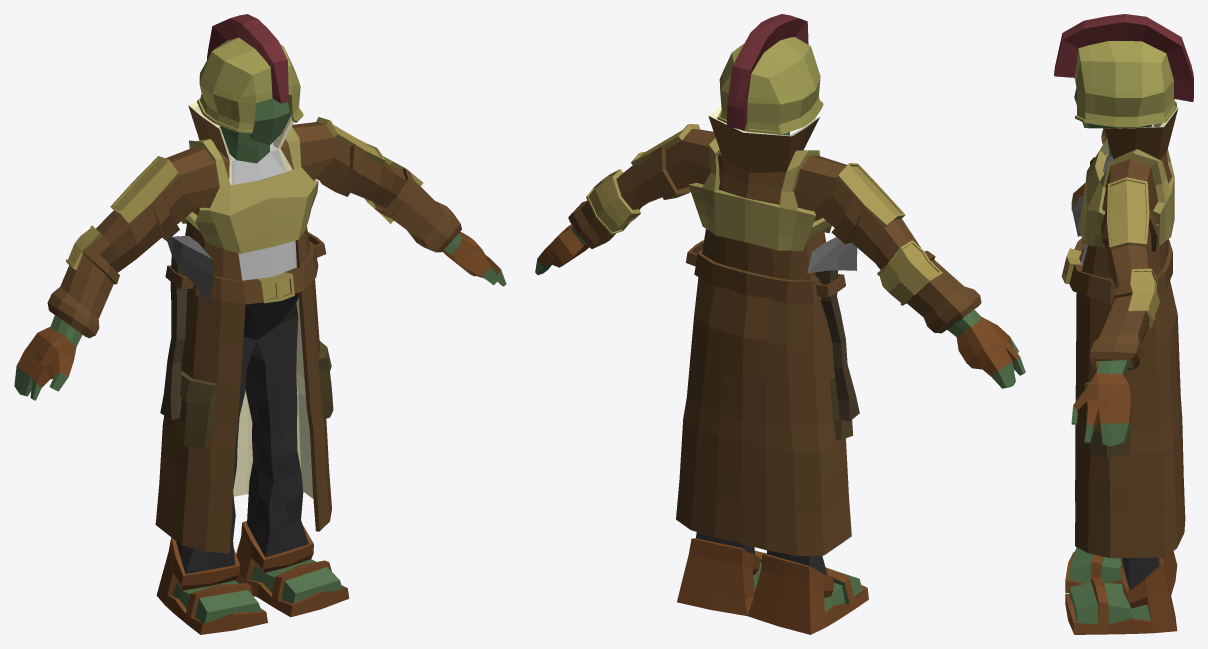
File: Builer.fbx
3 views of the same model, side by side, from view 1: azimuth 30°, elevation 25°; view 2: azimuth 150°, elevation 25°; view 3: azimuth 270°, elevation 25° (orthographic).
Parts seen in each view (by area): view 1: Cube.001; view 2: Cube.001; view 3: Cube.001.
Part boxes in pixels (x1,y1,x2,y2): Cube.001: (14, 14, 506, 634); Cube.001: (535, 14, 1025, 634); Cube.001: (1054, 14, 1193, 634).
Bounding box in the file's own units: 1530 × 1784 × 389.
